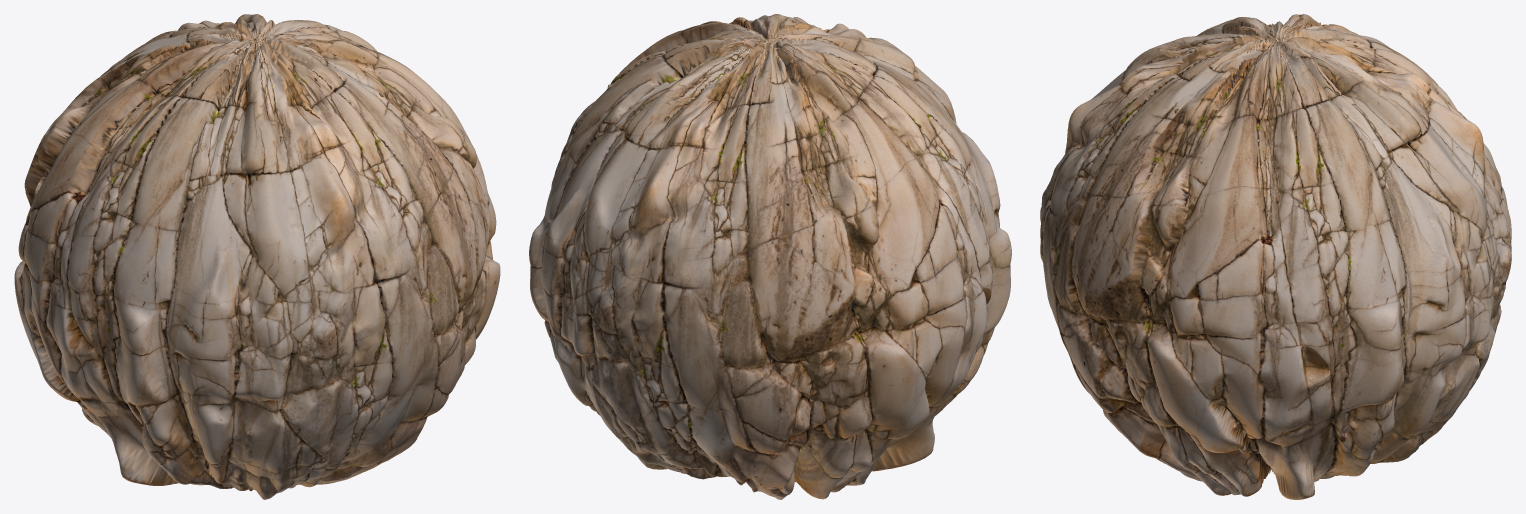
Rendered from MarbleCliffGLB.glb.
3 views of the same model, side by side, from view 1: azimuth 30°, elevation 25°; view 2: azimuth 150°, elevation 25°; view 3: azimuth 270°, elevation 25° (orthographic).
Visible parts, largest first — view 1: sphere_gltf; view 2: sphere_gltf; view 3: sphere_gltf.
Boxes of the visible parts, x1,y1,x2,y2 form: sphere_gltf: (14,14,500,499); sphere_gltf: (529,14,1011,499); sphere_gltf: (1040,14,1511,499).
Bounding box in the file's own units: 4.35 × 4.41 × 4.32.
1 material, 1 textured.
